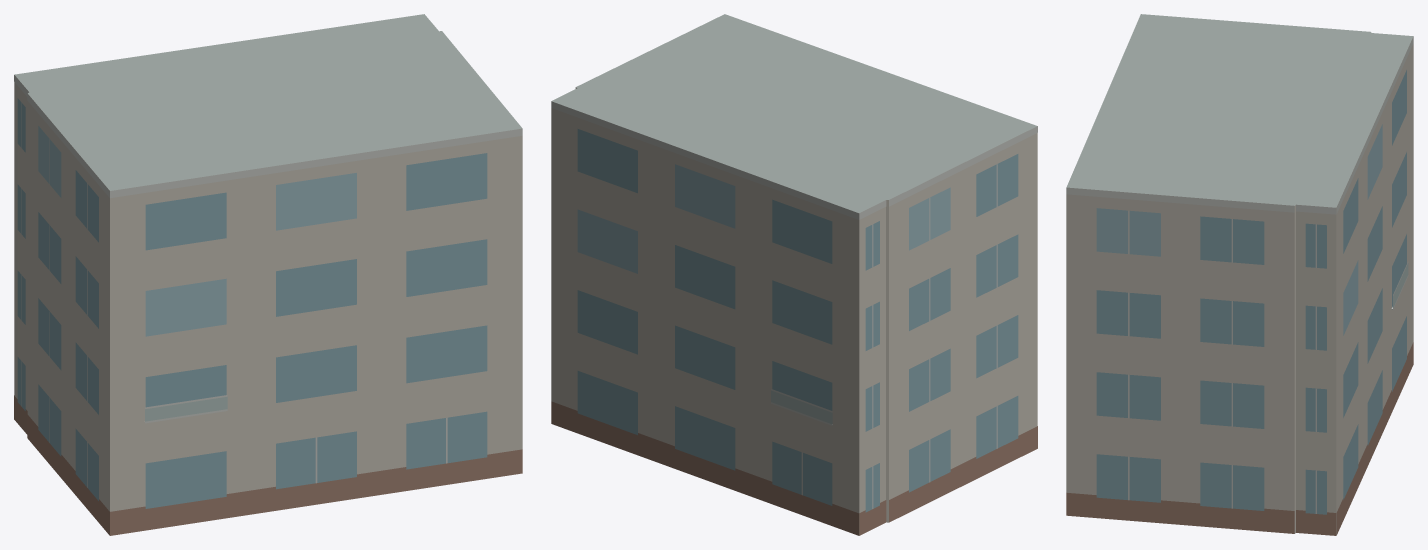
The model's file is survey-upis-32699359.glb.
3 views of the same model, side by side, from view 1: azimuth 30°, elevation 25°; view 2: azimuth 150°, elevation 25°; view 3: azimuth 270°, elevation 25° (orthographic). The views are drawn at different scales.
Parts seen in each view (by area): view 1: survey-upis-32699359.tmp; view 2: survey-upis-32699359.tmp; view 3: survey-upis-32699359.tmp.
Boxes of the visible parts, box(x1,y1,x2,y2) form: survey-upis-32699359.tmp: box(14, 14, 522, 535); survey-upis-32699359.tmp: box(551, 14, 1037, 535); survey-upis-32699359.tmp: box(1066, 14, 1413, 535).
Bounding box in the file's own units: 14.83 × 11.7 × 11.23.
